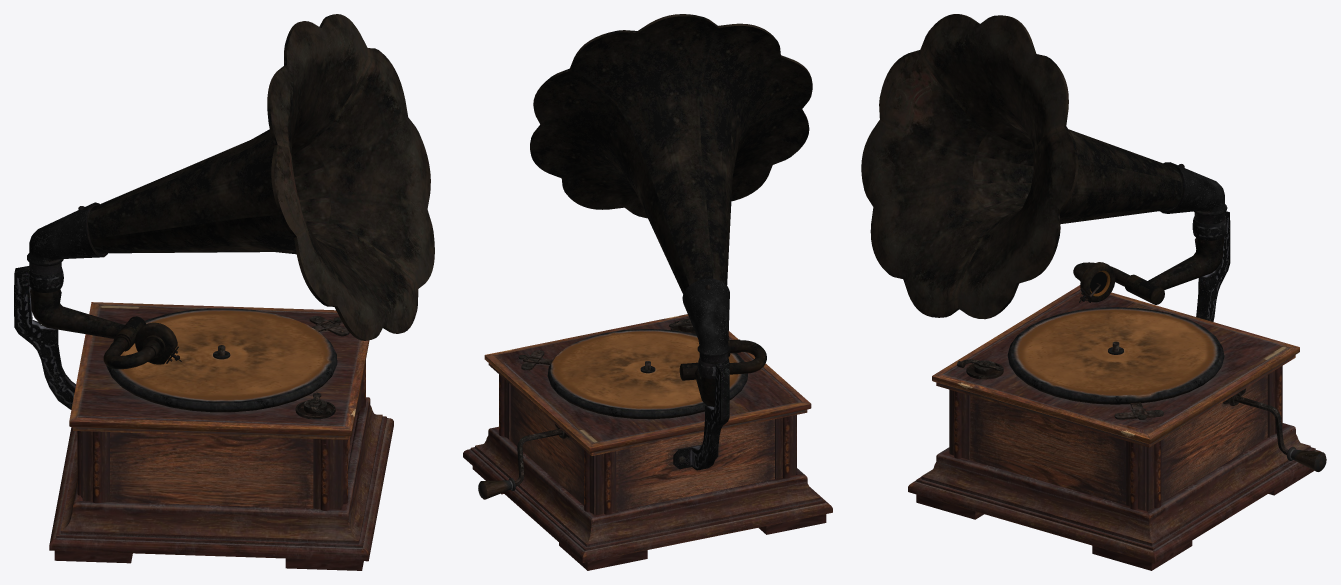
The model's file is Gramophone.fbx.
The picture shows the model from 3 angles, left to right: view 1: azimuth 30°, elevation 25°; view 2: azimuth 150°, elevation 25°; view 3: azimuth 270°, elevation 25°; orthographic projection. The views are drawn at different scales.
Parts seen in each view (by area): view 1: mesh0_dat_desirefx_me__obj_1; view 2: mesh0_dat_desirefx_me__obj_1; view 3: mesh0_dat_desirefx_me__obj_1.
Part boxes in pixels (<box>): mesh0_dat_desirefx_me__obj_1: <box>14,14,434,570</box>; mesh0_dat_desirefx_me__obj_1: <box>463,14,832,570</box>; mesh0_dat_desirefx_me__obj_1: <box>861,14,1326,570</box>.
Size of the model in its own units: 7.53 by 9.53 by 8.41.
Materials: 2 (1 with a texture image).
